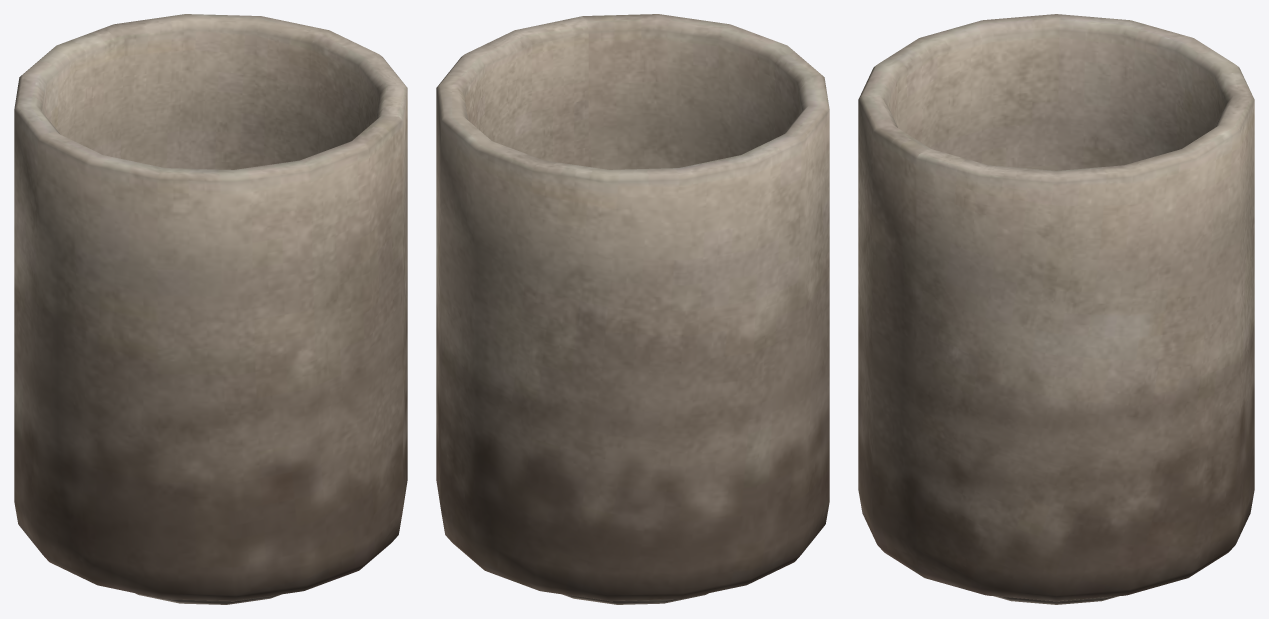
File: Yunomi_normal_20.glb
3 views of the same model, side by side, from view 1: azimuth 30°, elevation 25°; view 2: azimuth 150°, elevation 25°; view 3: azimuth 270°, elevation 25° (orthographic).
Parts seen in each view (by area): view 1: Yunomi; view 2: Yunomi; view 3: Yunomi.
Part boxes in pixels (x1,y1,x2,y2): Yunomi: [14, 14, 407, 604]; Yunomi: [436, 14, 829, 604]; Yunomi: [858, 14, 1254, 604].
Size of the model in its own units: 0.0783 by 0.1 by 0.0783.
1 material, 1 textured.
